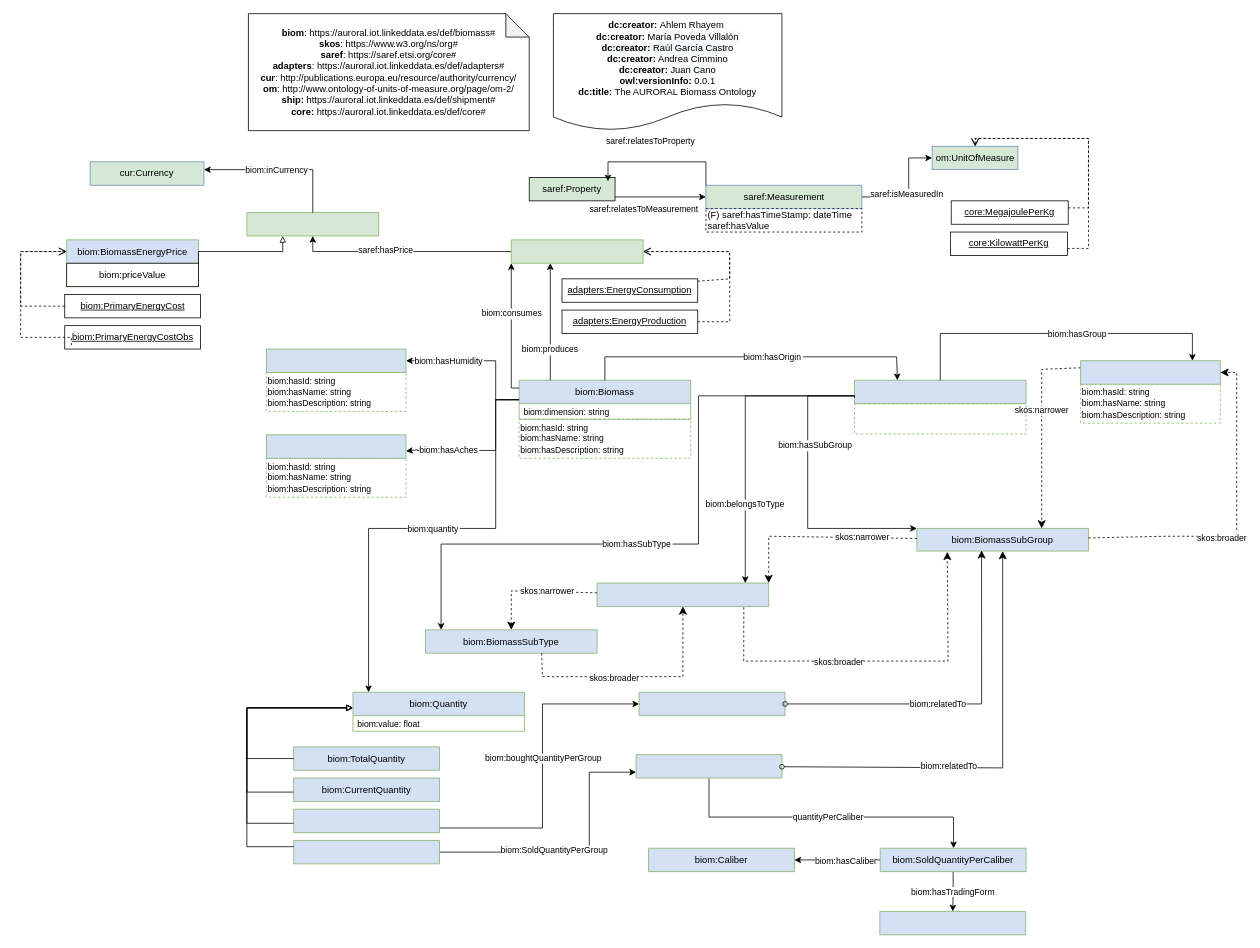
This 1260x948 diagram has some shape labels left out. The box of each missing label's shape, as (x1, y1, x2, y2) in pixels:
adapters:Energy: (511, 239, 643, 263)
biom:Aches: (266, 434, 406, 458)
biom:BiomassGroup: (1080, 360, 1220, 384)
biom:BiomassOrigin: (854, 379, 1026, 404)
biom:BiomassType: (596, 582, 769, 606)
biom:BoughtPerGroup: (638, 691, 785, 716)
biom:hasId: string biom:hasDescription: string: (854, 403, 1026, 434)
biom:Humidity: (266, 348, 406, 372)
biom:SoldPerGroup: (635, 754, 782, 778)
biom:SoldQuantity: (293, 840, 440, 864)
biom:TradingForm: (879, 911, 1026, 935)
saref:Price: (246, 212, 379, 236)
ship:BoughtQuantity: (293, 808, 440, 833)
